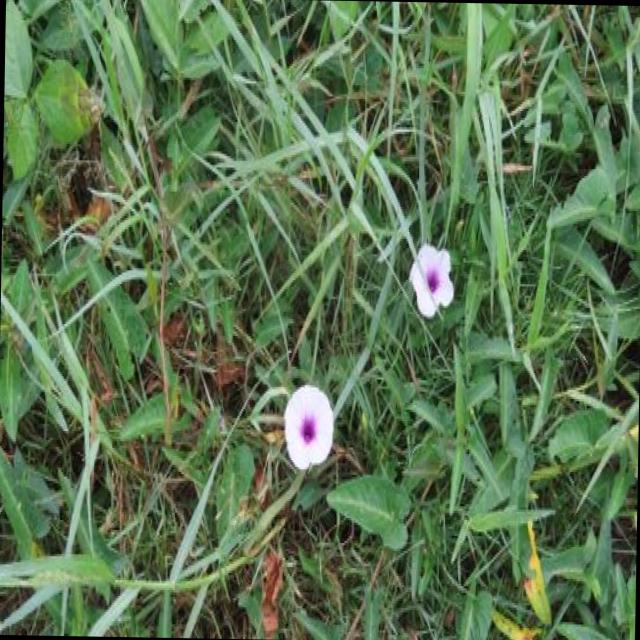ipomoea: (279, 378, 337, 477), (404, 238, 456, 324)
